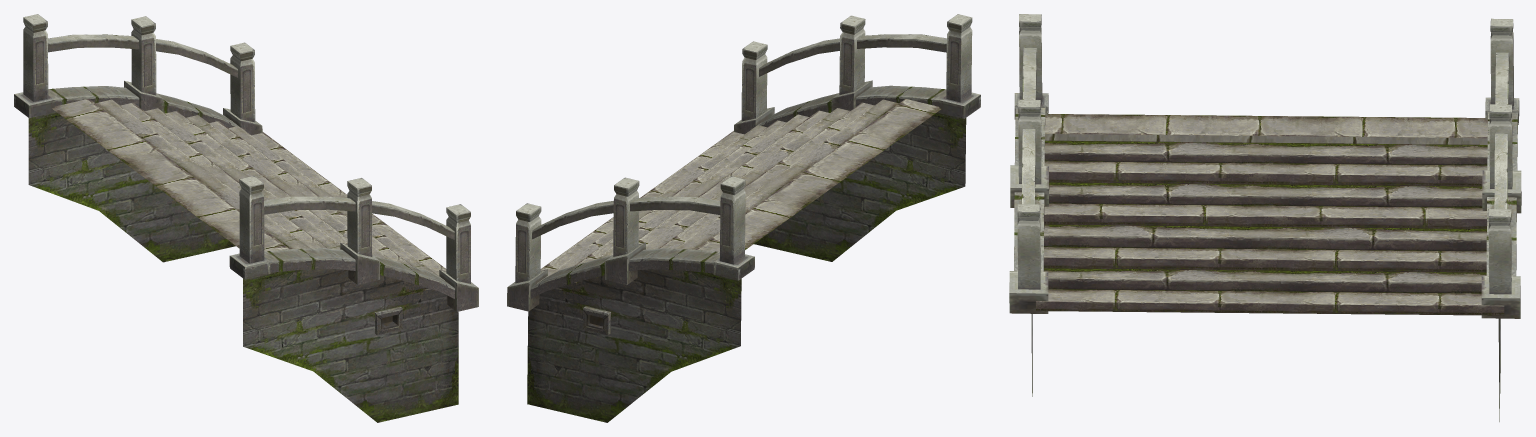
The model's file is xs__Item_louti_2.FBX.
3 views of the same model, side by side, from view 1: azimuth 30°, elevation 25°; view 2: azimuth 150°, elevation 25°; view 3: azimuth 270°, elevation 25° (orthographic). The views are drawn at different scales.
Visible parts, largest first — view 1: xs__Item_louti_2; view 2: xs__Item_louti_2; view 3: xs__Item_louti_2.
Boxes of the visible parts, x1,y1,x2,y2 form: xs__Item_louti_2: (14,14,478,422); xs__Item_louti_2: (507,14,980,422); xs__Item_louti_2: (1009,14,1521,421).
Size of the model in its own units: 727 by 805 by 1270.
